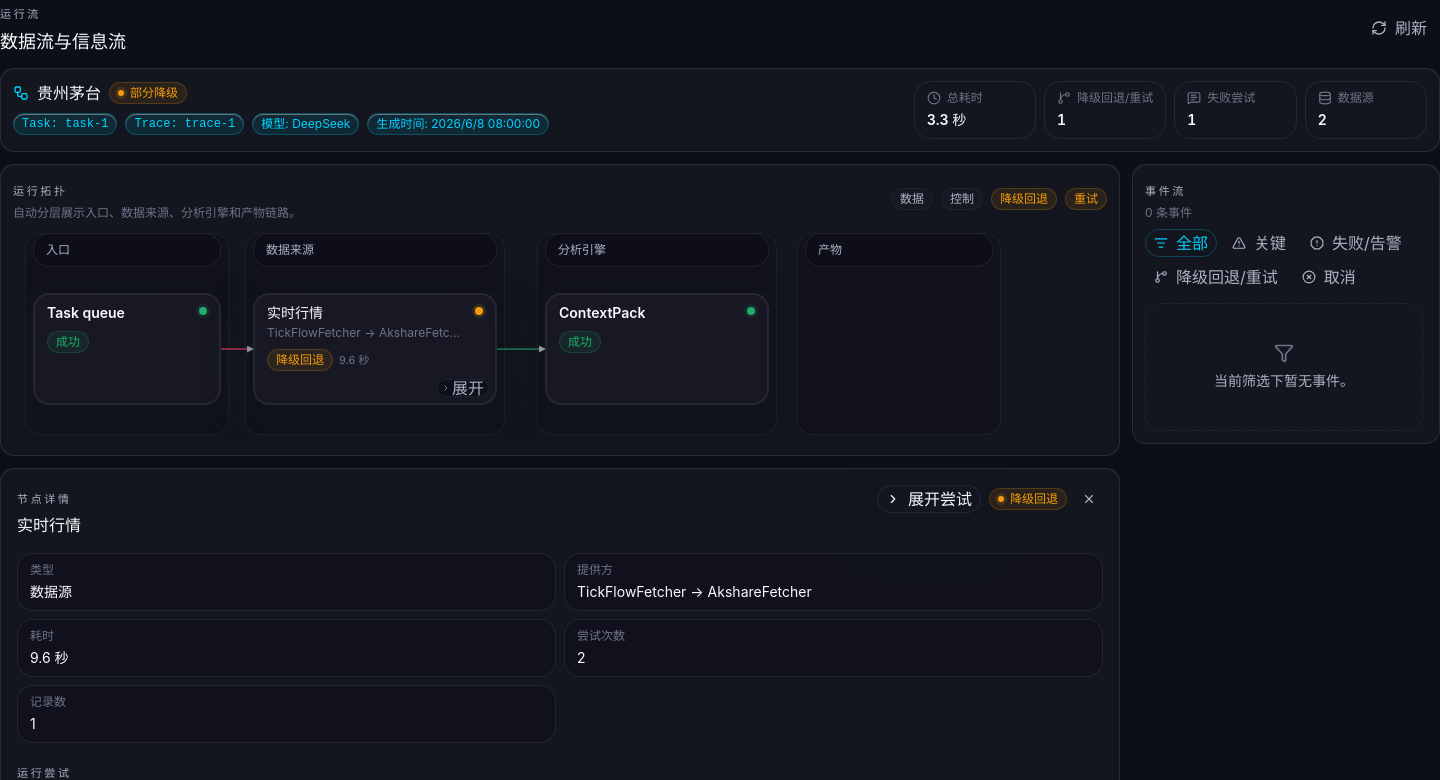
Test: RunFlowPanel › renders TickFlow realtime fallback attempts through generic provider groups
Expected: the button with test id "run-flow-node-topology_data_realtime_quote" shows "TickFlowFetcher -> AkshareFetcher", top-left (253, 293), bottom-right (497, 405)
Expected: the element with test id "run-flow-node-details" shows "TickFlowFetcher -> AkshareFetcher", top-left (577, 583), bottom-right (812, 600)
Click the button with test id "run-flow-node-topology_data_realtime_quote-toggle": click(463, 388) top-left (437, 379), bottom-right (489, 397)
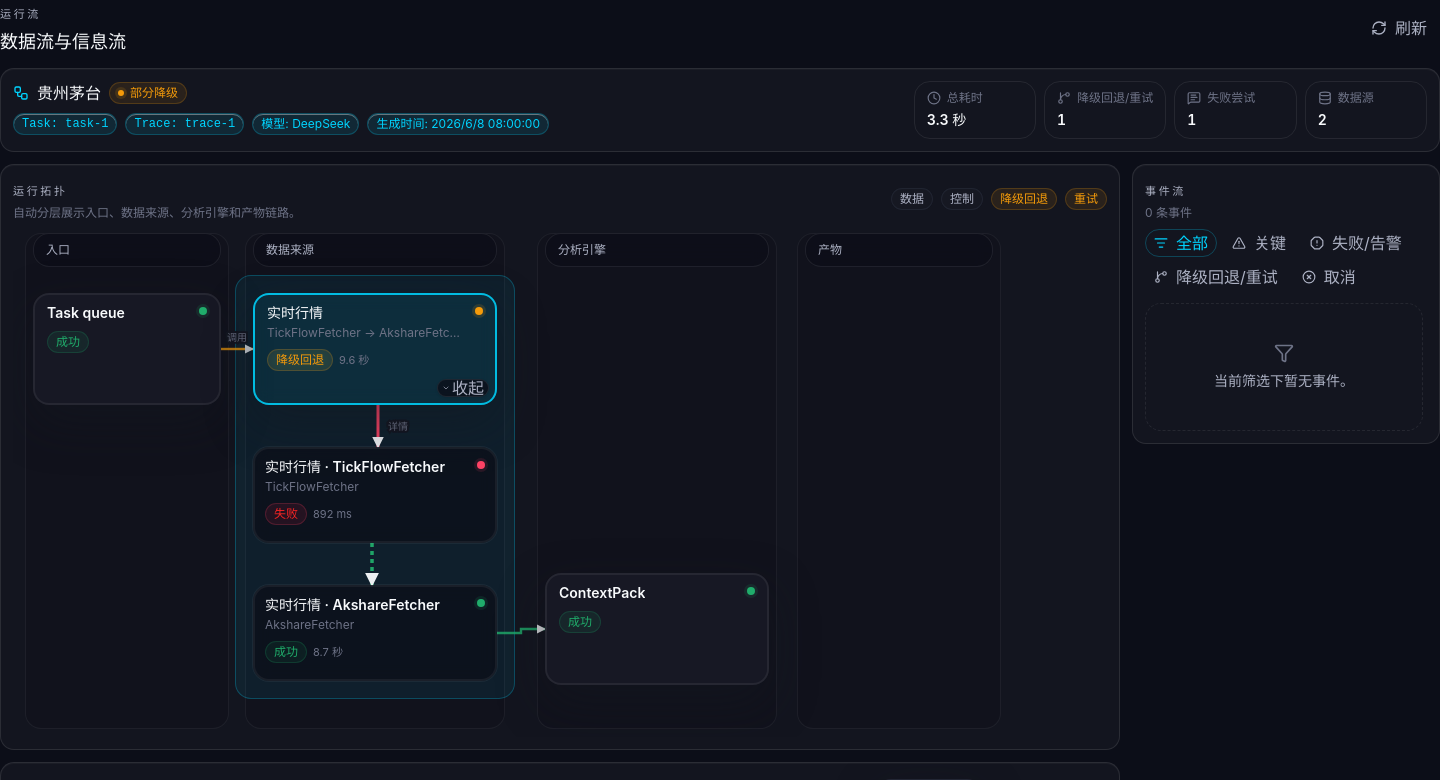
Result: the button with test id "run-flow-node-provider_realtime_quote_tickflowfetcher_1" shows "TickFlowFetcher" at top-left (253, 447), bottom-right (497, 543)
Result: the button with test id "run-flow-node-provider_realtime_quote_aksharefetcher_2" shows "AkshareFetcher" at top-left (253, 585), bottom-right (497, 681)
